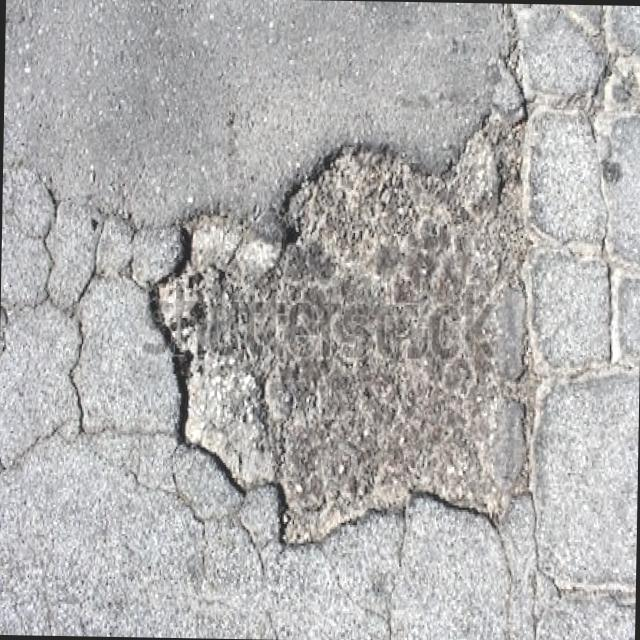bad-road: (144, 132, 538, 555)
